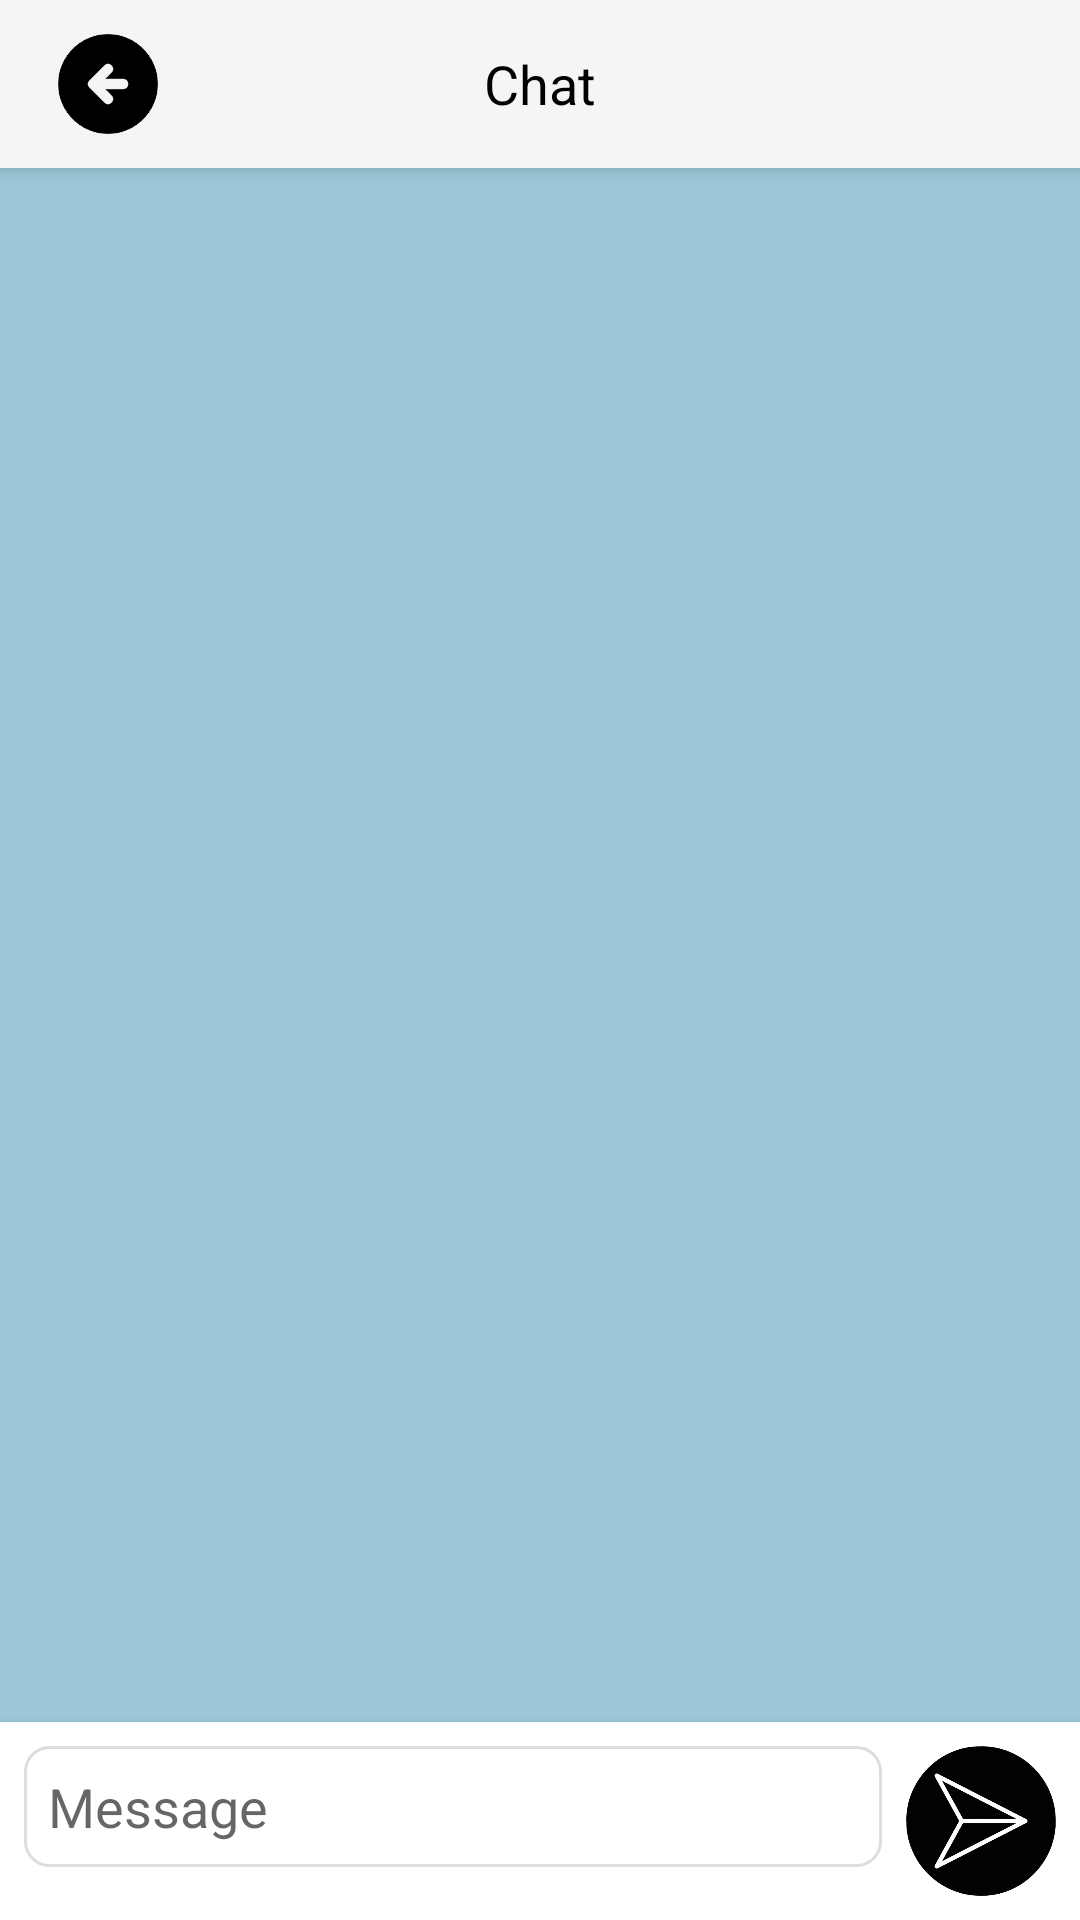

Screen size 1080px×1920px. Icon name, then its box in pixels as (x1, y1, x2, y2):
back: (58, 34, 158, 134)
send: (906, 1746, 1056, 1896)
